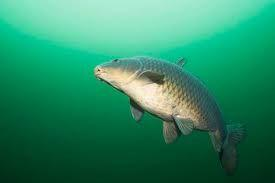Grass Carp: (96, 52, 247, 177)
